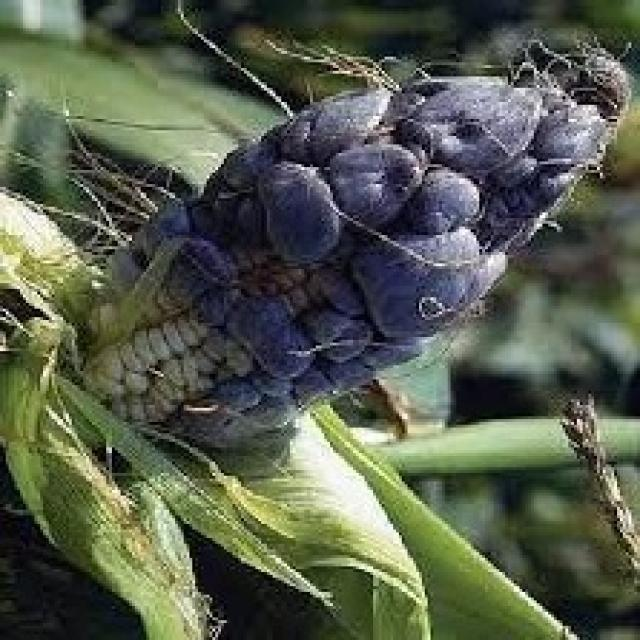Leaf_Scald: (45, 34, 640, 587)
